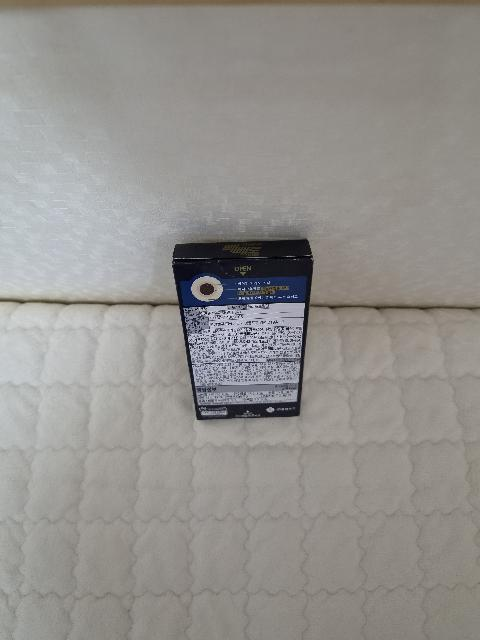pepero: (172, 239, 314, 420)
